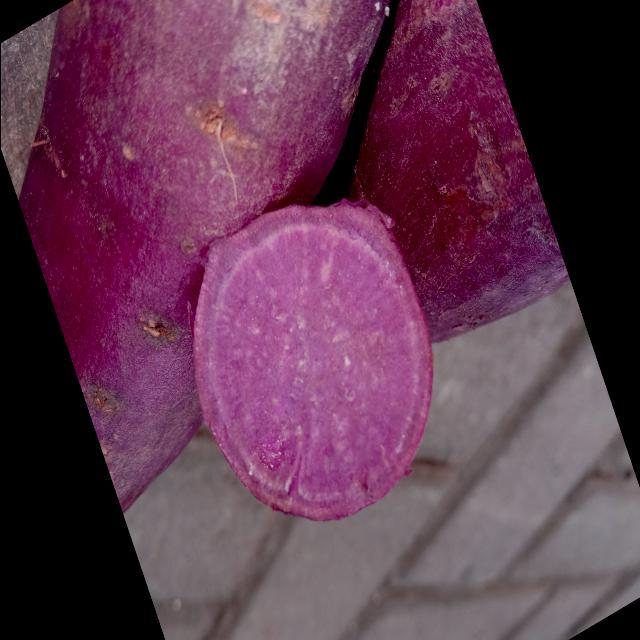Healthy Sweet Potato: (194, 200, 431, 520)
